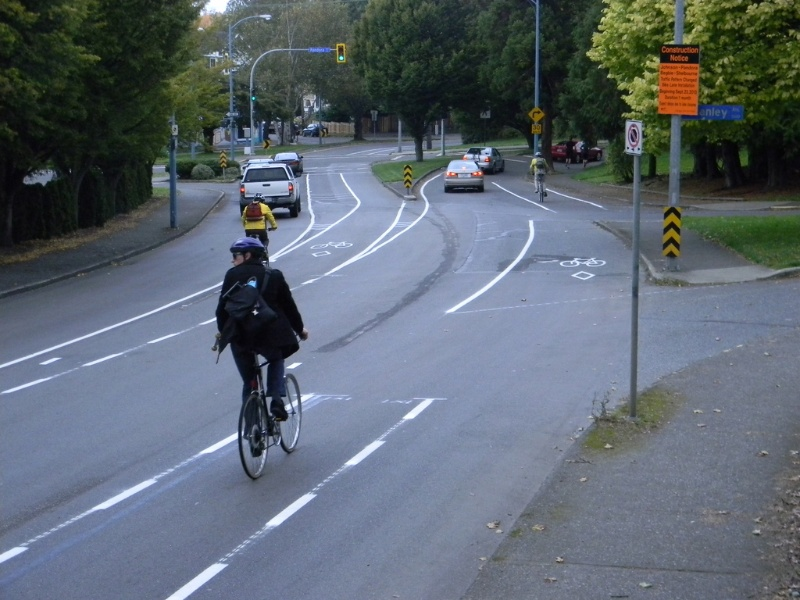green_light: (319, 36, 362, 73)
